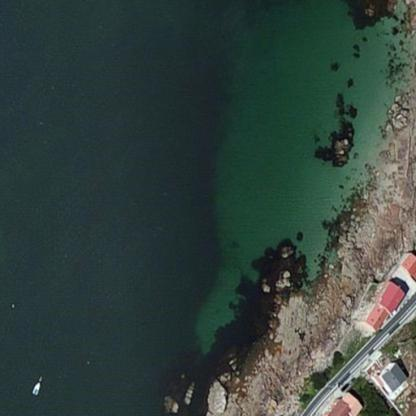ship: (29, 377, 43, 397)
